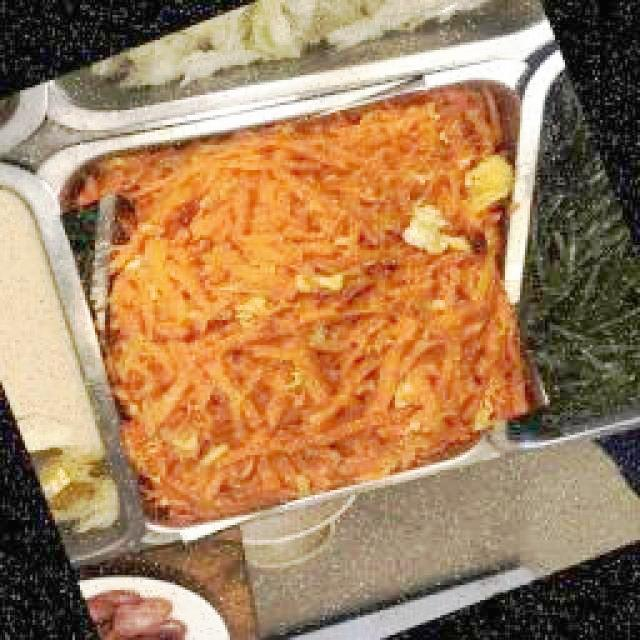carrot_eggs: (71, 85, 538, 522)
